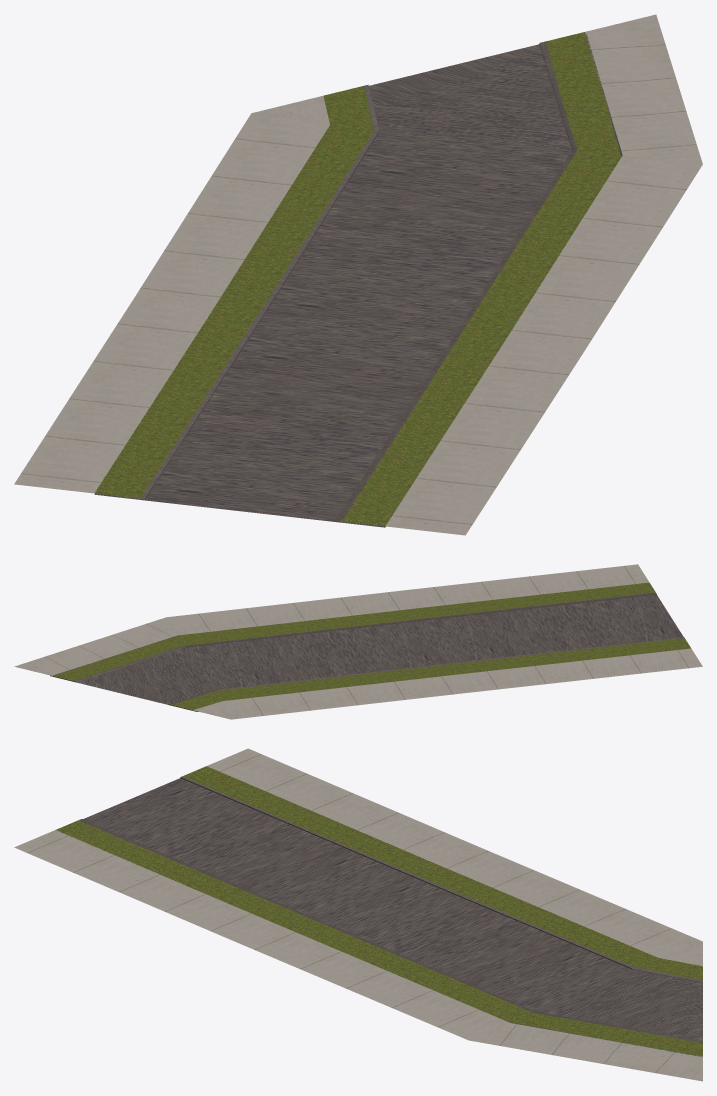
The model's file is TurnRoadNew1.fbx.
3 renders of one model, top to bottom at view 1: azimuth 30°, elevation 25°; view 2: azimuth 150°, elevation 25°; view 3: azimuth 270°, elevation 25°, orthographic. The views are drawn at different scales.
Visible parts, largest first — view 1: SM_Road_01_1; view 2: SM_Road_01_1; view 3: SM_Road_01_1.
Part boxes in pixels (x1,y1,x2,y2): SM_Road_01_1: [14, 14, 702, 535]; SM_Road_01_1: [14, 564, 702, 719]; SM_Road_01_1: [14, 748, 702, 1081].
Size of the model in its own units: 15463 by 19.14 by 13520.
